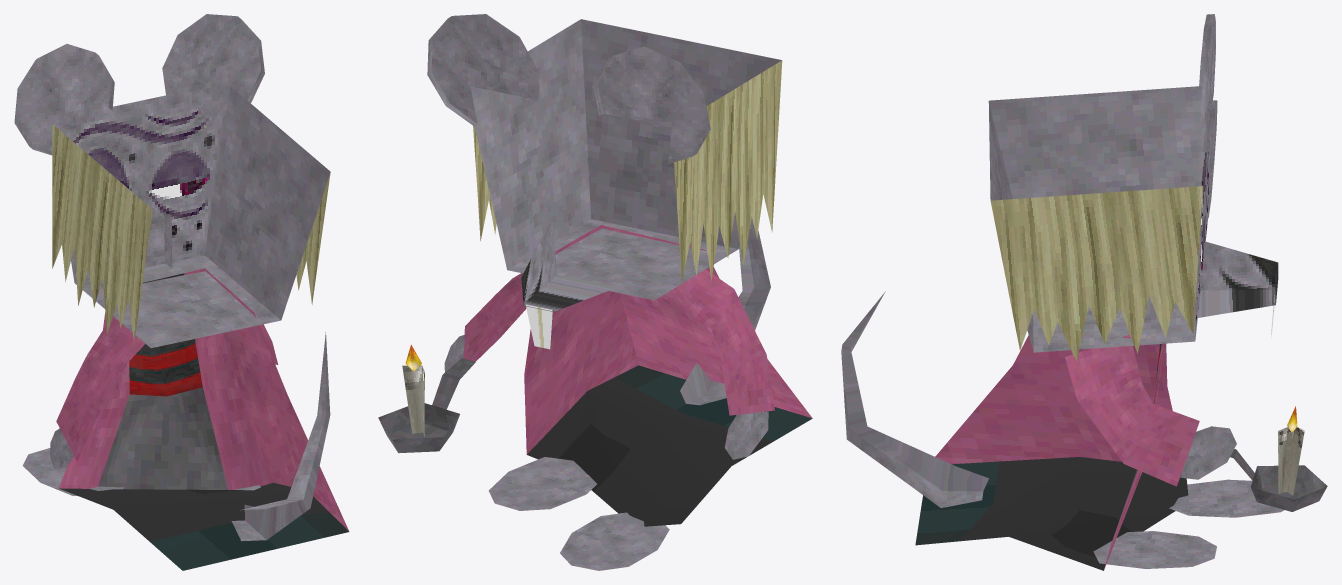
The model's file is ps2_save-icons_gregoryhorrorshow.glb.
The picture shows the model from 3 angles, left to right: view 1: azimuth 30°, elevation 25°; view 2: azimuth 150°, elevation 25°; view 3: azimuth 270°, elevation 25°; orthographic projection. The views are drawn at different scales.
Visible parts, largest first — view 1: ghs_00.ico; view 2: ghs_00.ico; view 3: ghs_00.ico.
Part boxes in pixels (x1=…): ghs_00.ico: x1=14, y1=14, x2=349, y2=570; ghs_00.ico: x1=378, y1=14, x2=812, y2=570; ghs_00.ico: x1=841, y1=14, x2=1327, y2=570.
Size of the model in its own units: 2.25 by 3.74 by 3.48.
1 material, 1 textured.
